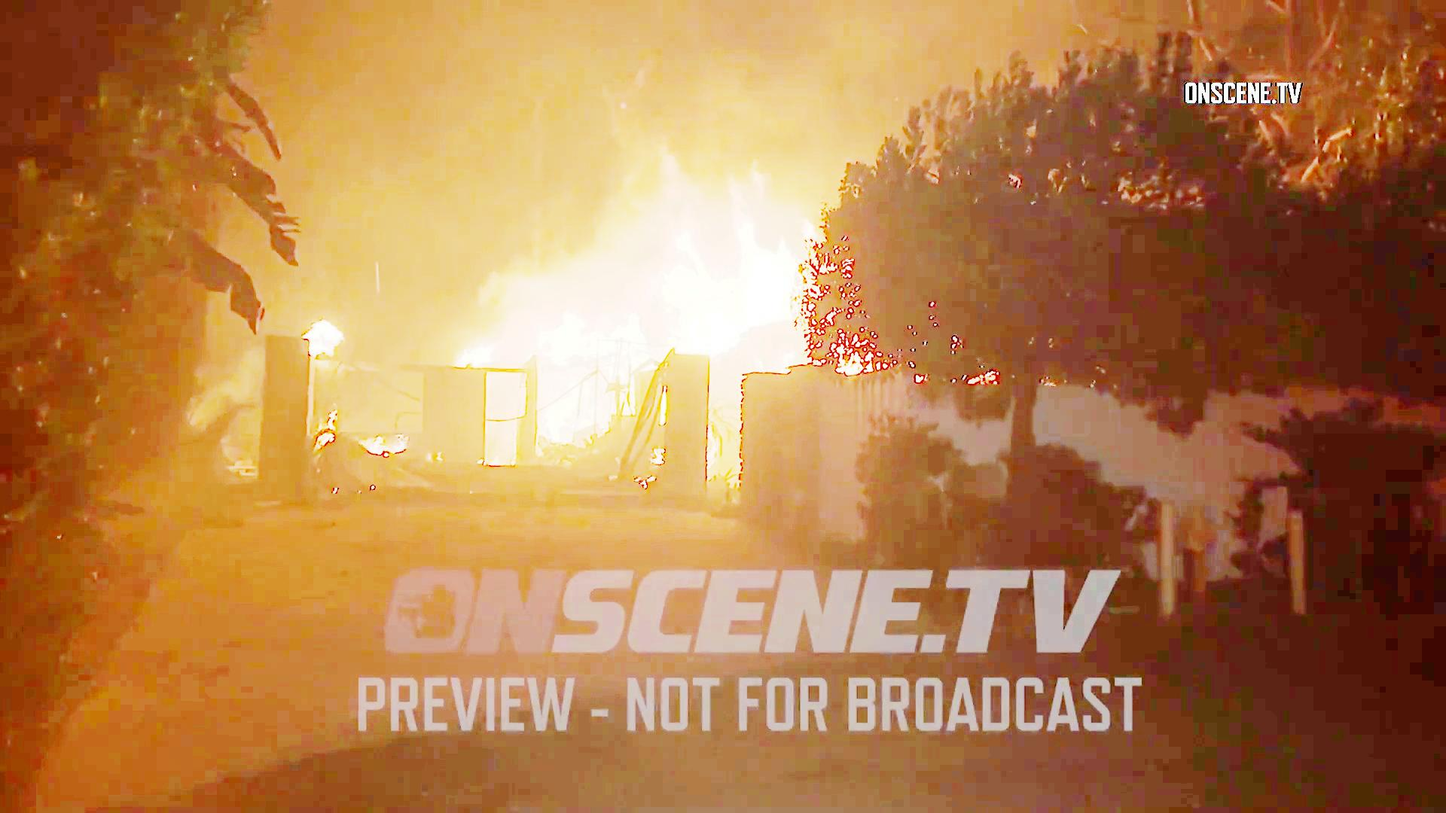fire: (514, 189, 795, 357)
